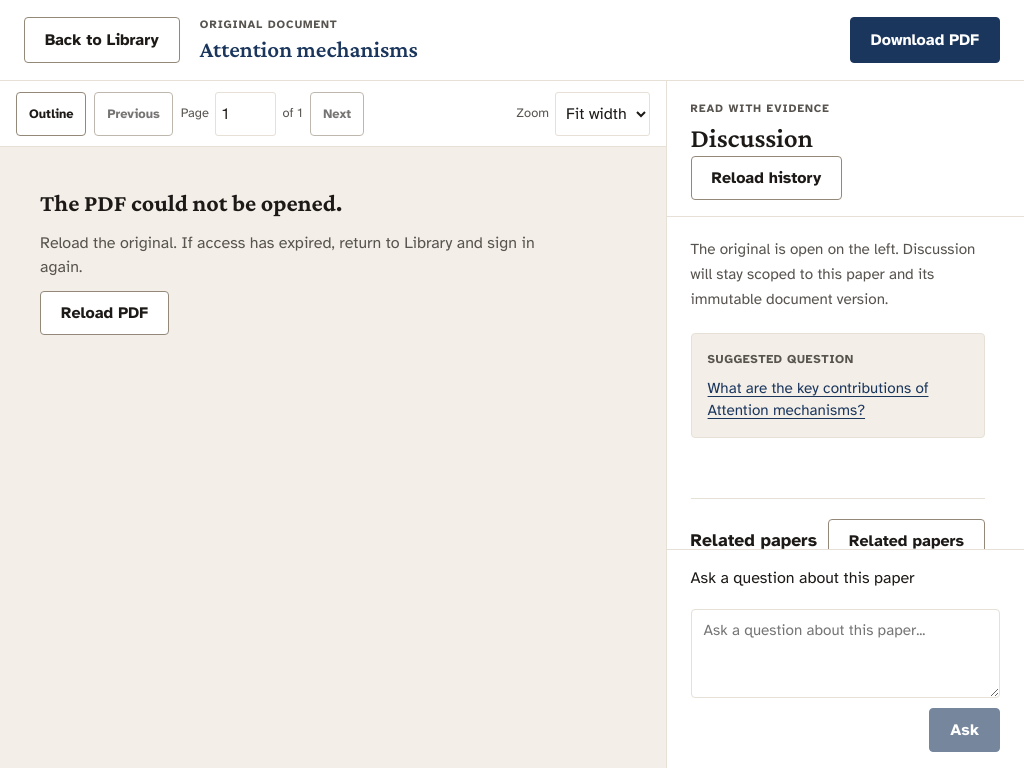
Test: keeps stop empty and missing metadata distinct and retries only after user intent
The image size is (1024, 768).
Step 1. Click the button "Related papers" → {"x": 906, "y": 541}, box [828,519,985,563]
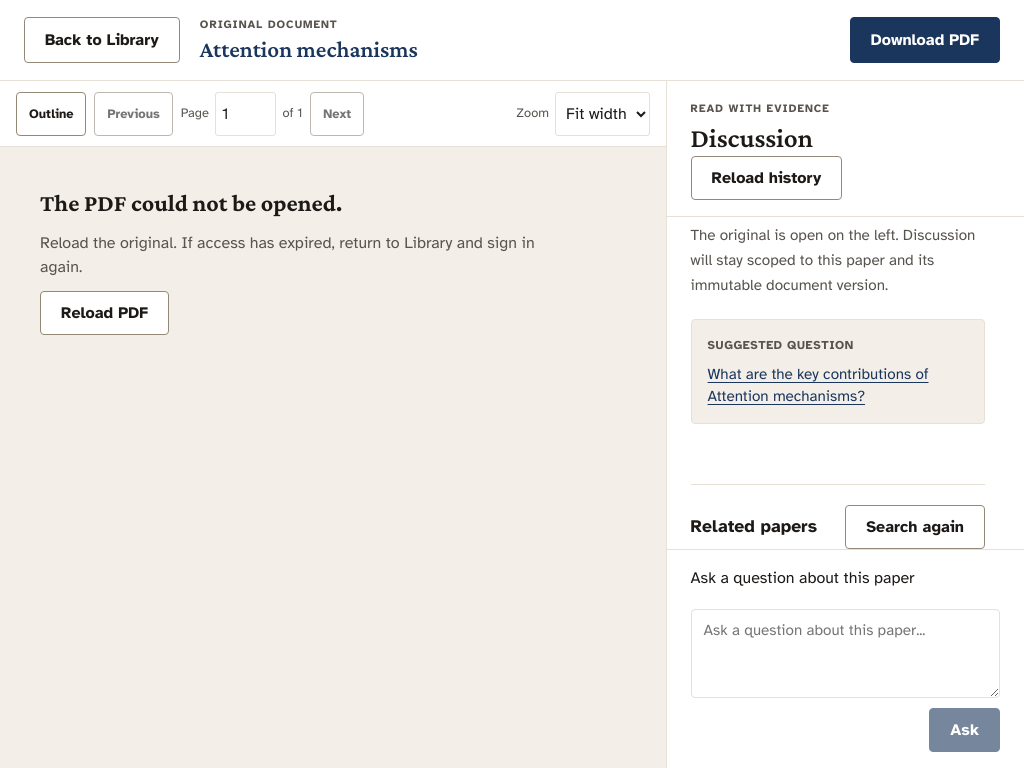
Step 2. Click the button "Search again" → {"x": 915, "y": 527}, box [845,505,985,549]
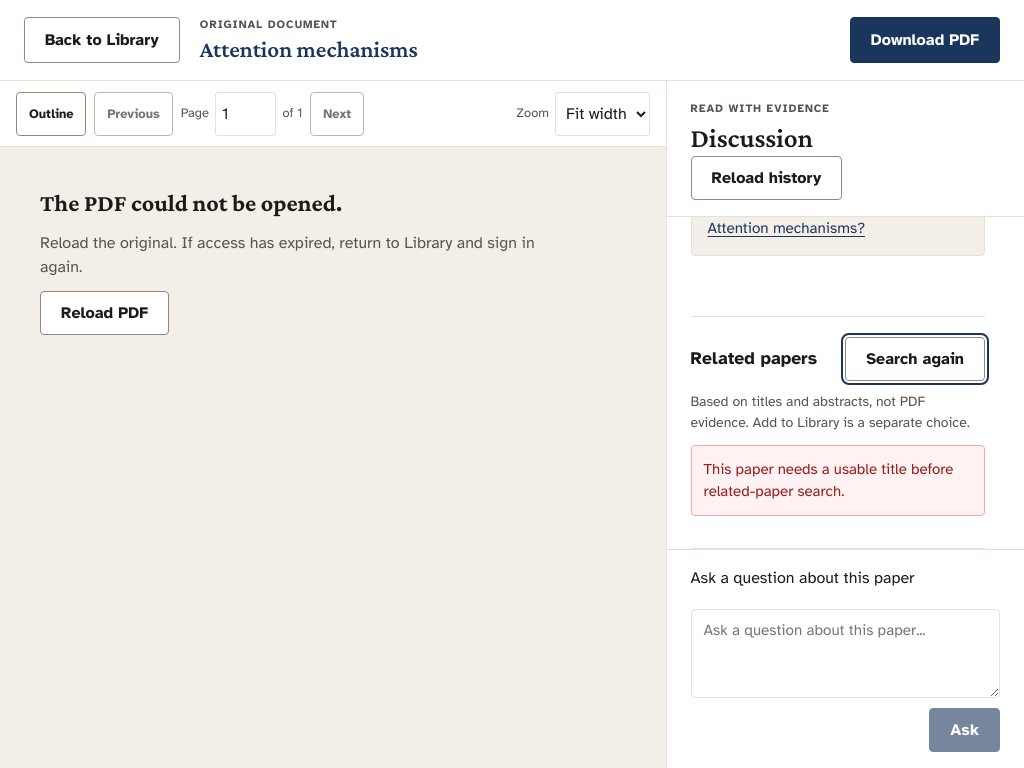
expect the message "This paper needs a usable title before related-paper search." is shown: met, box [691,445,985,516]
